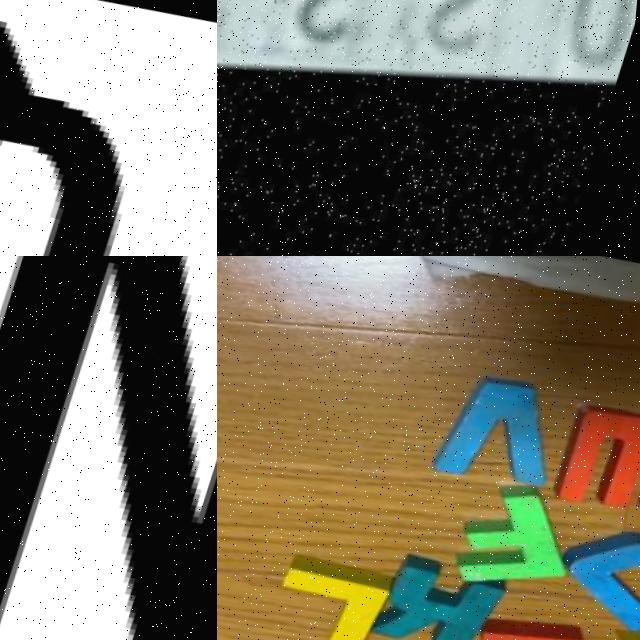0: (546, 0, 640, 93)
2: (397, 0, 529, 86), (263, 0, 405, 70)
E: (468, 617, 611, 640)
F: (446, 482, 585, 605)
J: (560, 526, 640, 640)
K: (367, 554, 514, 640)
L: (260, 542, 409, 640)
N: (0, 256, 217, 640)
Q: (0, 0, 189, 256)
V: (423, 365, 591, 499)
W: (550, 407, 640, 544)
